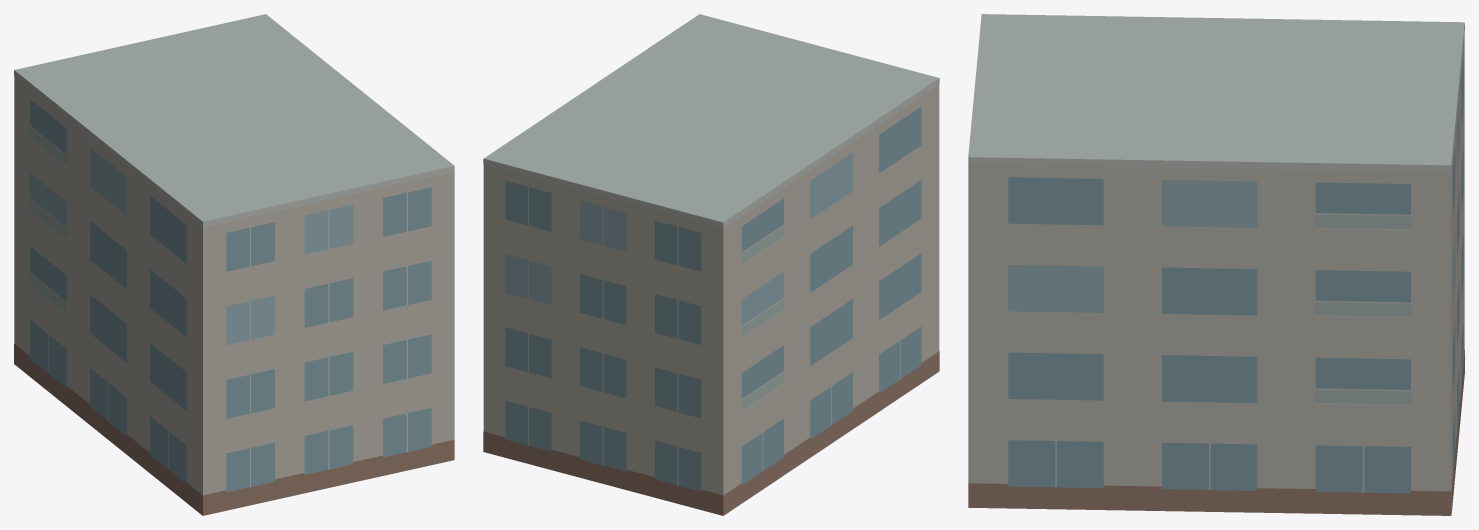
The model's file is residential-74e4704c-6fb1-4deb-a1e0-c463503e9be1.glb.
3 views of the same model, side by side, from view 1: azimuth 30°, elevation 25°; view 2: azimuth 150°, elevation 25°; view 3: azimuth 270°, elevation 25° (orthographic). The views are drawn at different scales.
Parts seen in each view (by area): view 1: residential-74e4704c-6fb1-4deb-a1e0-c463503e9be1.tmp; view 2: residential-74e4704c-6fb1-4deb-a1e0-c463503e9be1.tmp; view 3: residential-74e4704c-6fb1-4deb-a1e0-c463503e9be1.tmp.
Part boxes in pixels (x1,y1,x2,y2): residential-74e4704c-6fb1-4deb-a1e0-c463503e9be1.tmp: (14,14,454,515); residential-74e4704c-6fb1-4deb-a1e0-c463503e9be1.tmp: (483,14,939,515); residential-74e4704c-6fb1-4deb-a1e0-c463503e9be1.tmp: (968,14,1464,515).
Bounding box in the file's own units: 11.3 × 12.2 × 15.67.
